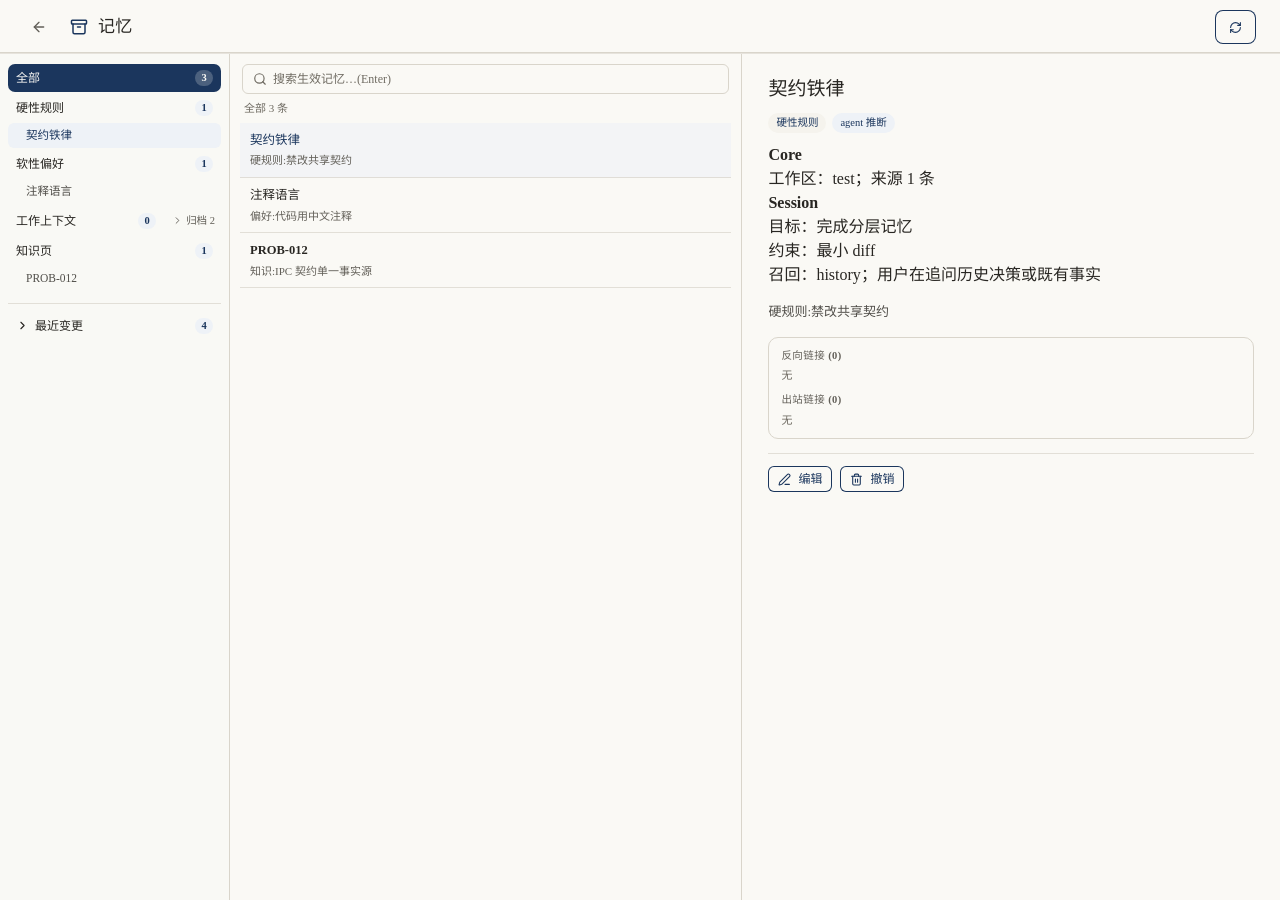
MemoryPage(三栏工作台 + 操作) › 三栏渲染:知识树 / 条目流 / 条目页面各自承载对应数据;审计默认折叠
The image size is (1280, 900).
Check: the 1st text "硬性规则" is shown, box [16, 101, 64, 115]
Check: the text "软性偏好" is shown, box [16, 157, 64, 171]
Click the text "最近变更".
click(59, 326)  # box [35, 319, 83, 333]
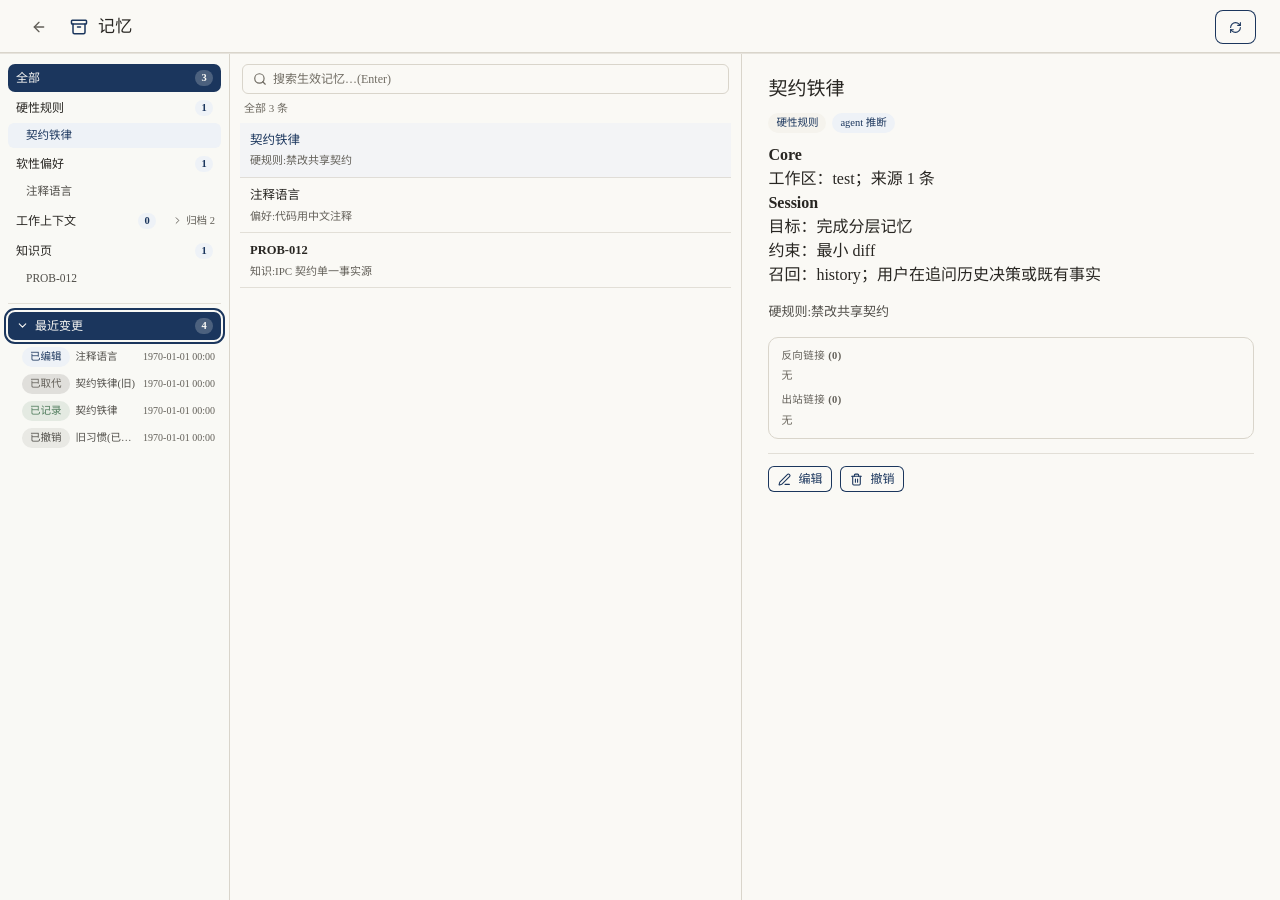
Check: the number of elements with test id "memory-audit-item" is 4, box [8, 344, 221, 370]; [8, 371, 221, 397]; [8, 398, 221, 424]; [8, 425, 221, 451]
